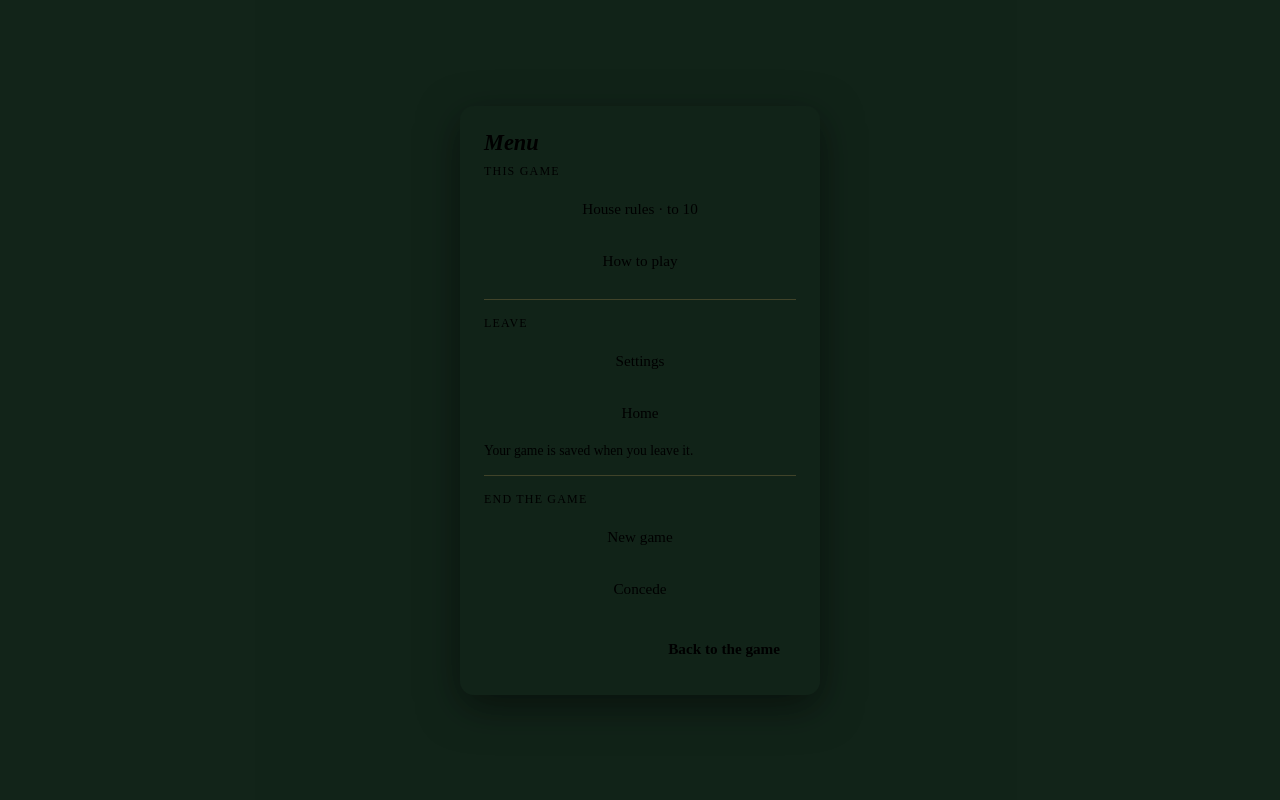
Test case: the game menu’s Rules › lists every house rule in play, and none that are not
The width and height of the screenshot is (1280, 800).
Click the button "House rules · to 10". click: [640, 208]
box: [484,186,796,230]
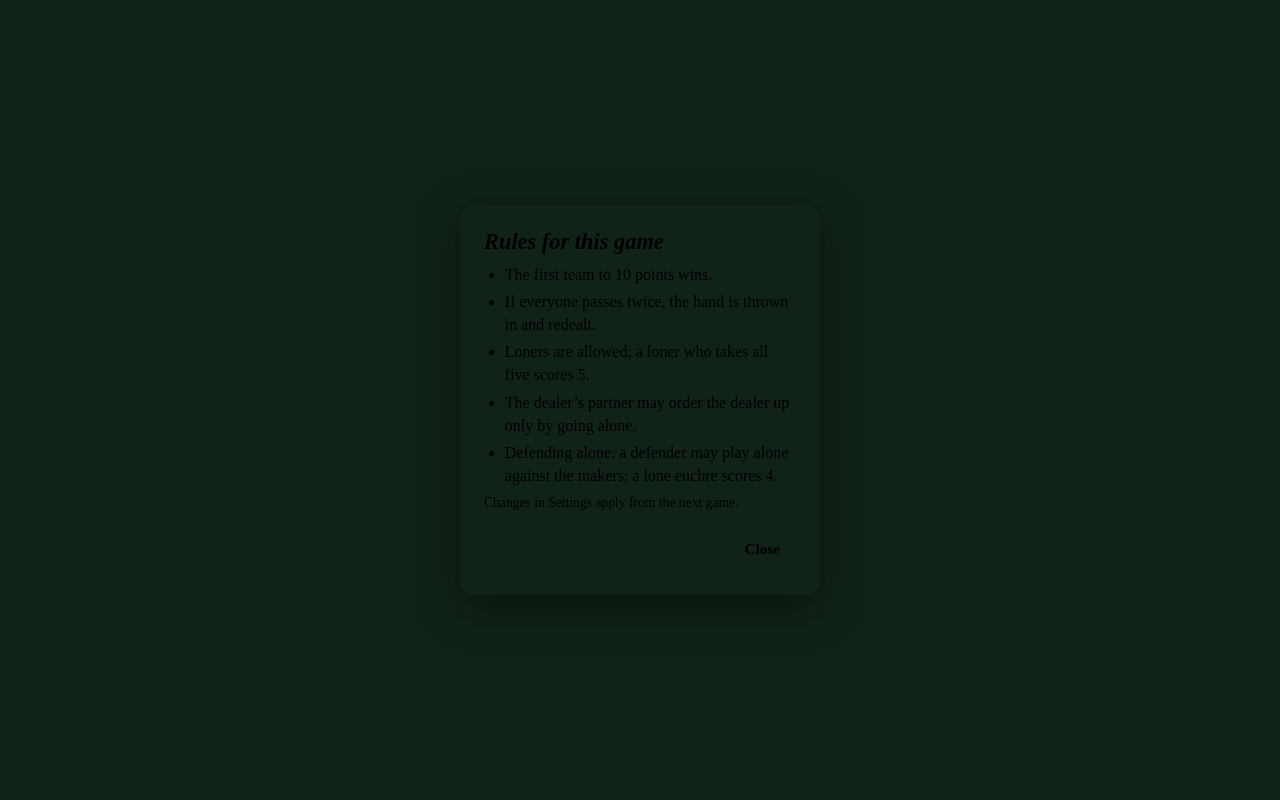
Check: the list item "Loners are allowed; a loner who takes all five scores 5." is shown, box [505,340,796,387]
Check: the list item "Defending alone" is shown, box [505,444,788,484]
Check: the list item "only by going alone" is shown, box [505,394,789,434]
